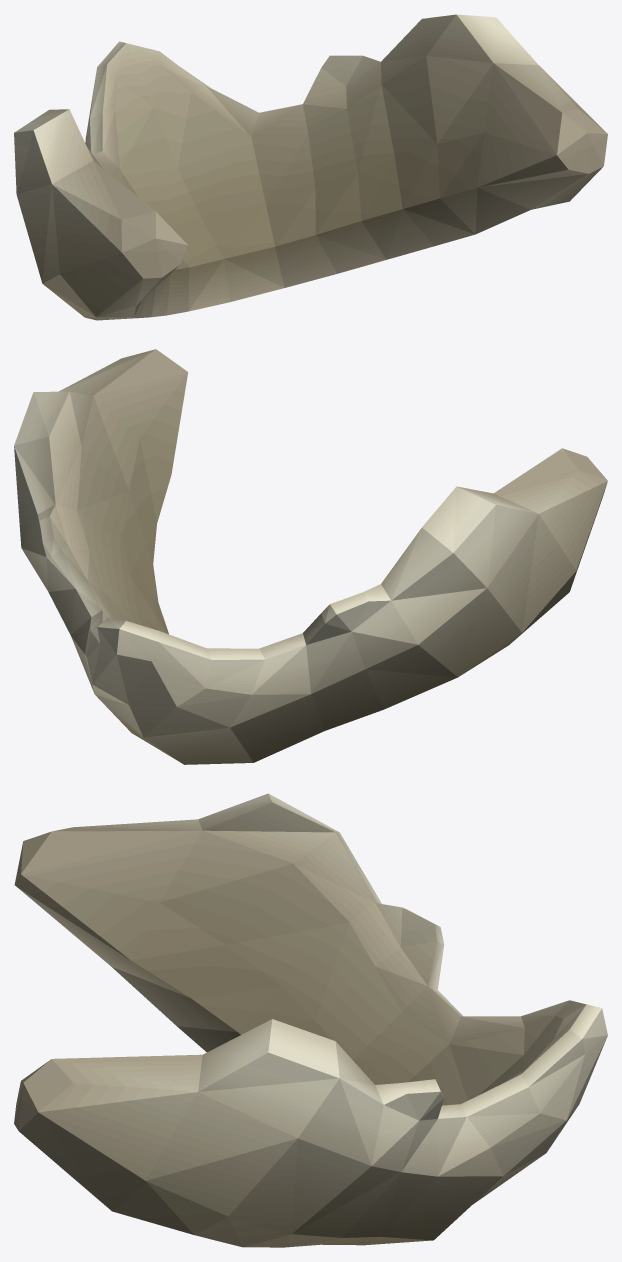
Rendered from CharSkyKid_Horn_AP19SkullJaw.glb.
3 views of the same model, one above another, from view 1: azimuth 30°, elevation 25°; view 2: azimuth 150°, elevation 25°; view 3: azimuth 270°, elevation 25° (orthographic). The views are drawn at different scales.
Parts seen in each view (by area): view 1: CharSkyKid_Horn_AP19SkullJaw; view 2: CharSkyKid_Horn_AP19SkullJaw; view 3: CharSkyKid_Horn_AP19SkullJaw.
Boxes of the visible parts, left/top/right/bottom form: CharSkyKid_Horn_AP19SkullJaw: left=14, top=14, right=607, bottom=320; CharSkyKid_Horn_AP19SkullJaw: left=14, top=349, right=607, bottom=764; CharSkyKid_Horn_AP19SkullJaw: left=14, top=793, right=607, bottom=1247.
Bounding box in the file's own units: 2.42 × 1.23 × 2.1.
1 material, 1 textured.
